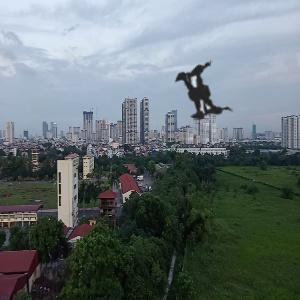drone: (110, 10, 292, 192)
